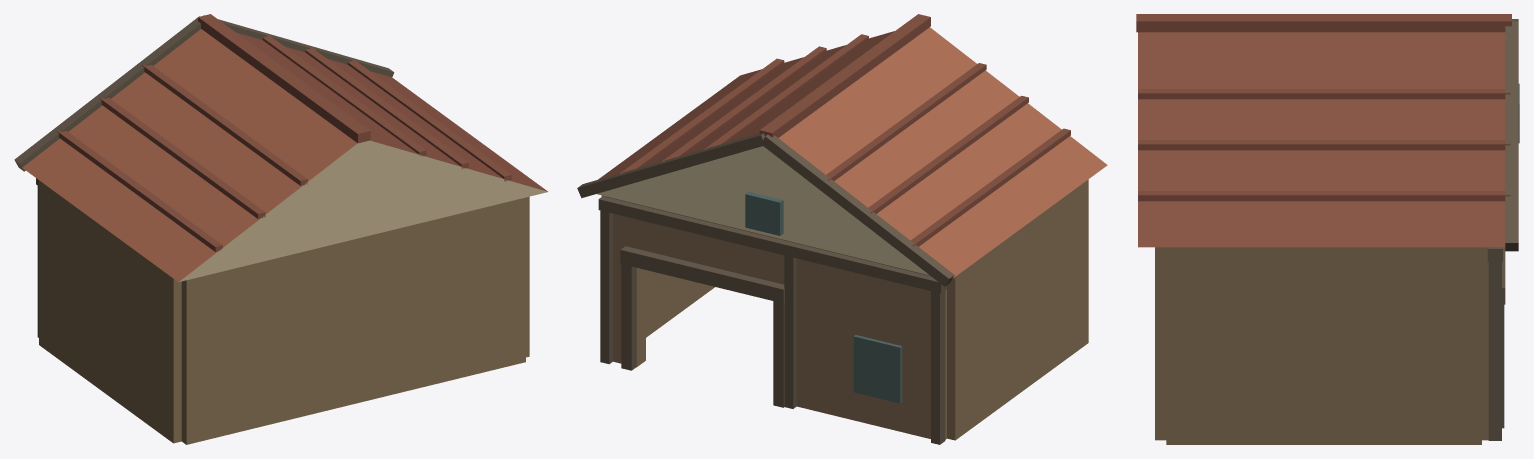
File: Town_Granary_Cover.fbx
3 renders of one model, left to right at view 1: azimuth 30°, elevation 25°; view 2: azimuth 150°, elevation 25°; view 3: azimuth 270°, elevation 25°, orthographic. The views are drawn at different scales.
Visible parts, largest first — view 1: OpenBuildings_Town_Granary_Cover; view 2: OpenBuildings_Town_Granary_Cover; view 3: OpenBuildings_Town_Granary_Cover.
Boxes of the visible parts, box(x1,y1,x2,y2) form: OpenBuildings_Town_Granary_Cover: box(14, 14, 547, 444); OpenBuildings_Town_Granary_Cover: box(577, 14, 1107, 444); OpenBuildings_Town_Granary_Cover: box(1136, 14, 1519, 444).
Size of the model in its own units: 5.02 by 3.54 by 3.78.
